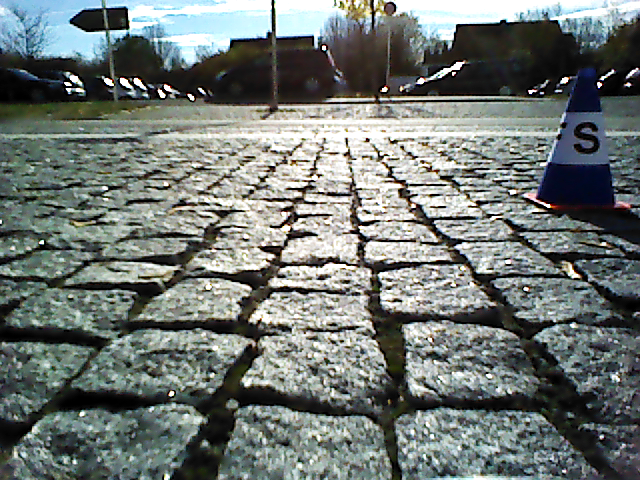bluecone: (540, 68, 616, 205)
